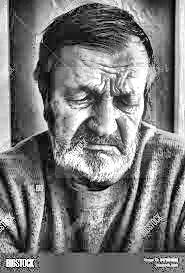sad: (55, 68, 156, 179)
